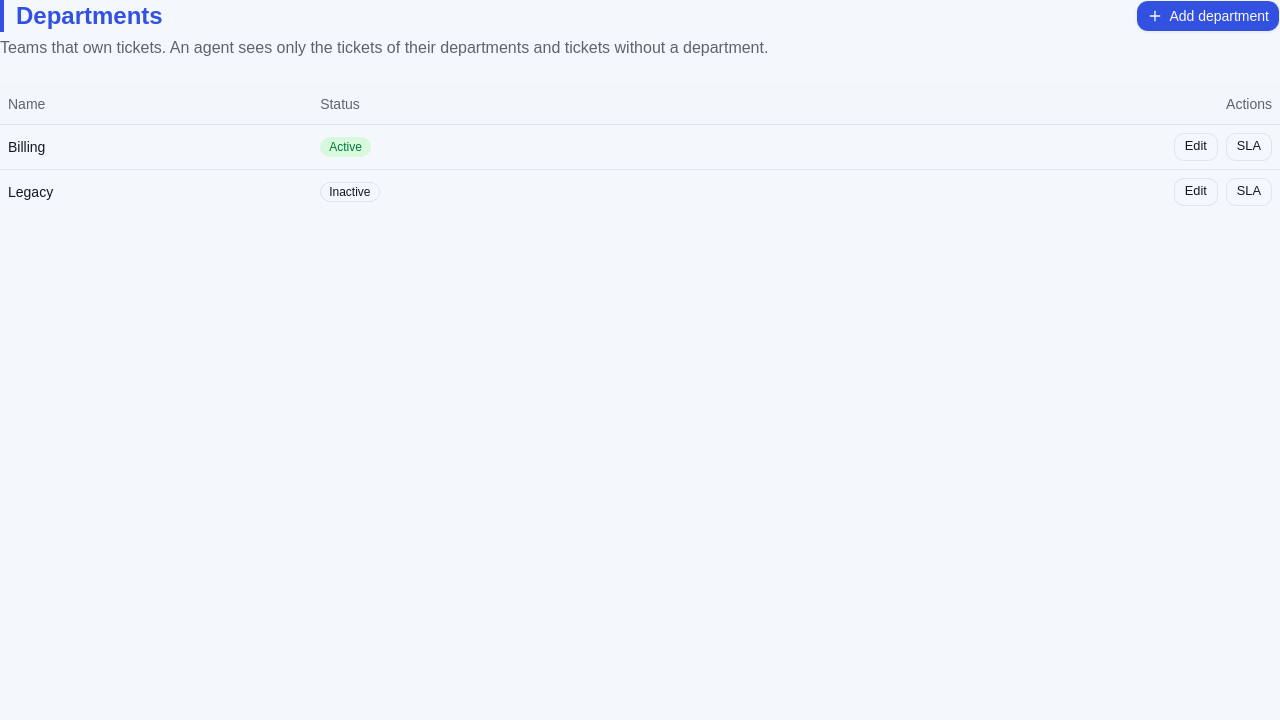
Scenario: DepartmentsPage › adds a department and reloads the list
Expected: the row "Billing Active Edit SLA" is shown, [0,124,1279,169]
Click the button "Add department". click: x=1208, y=16
box: [1136,0,1279,32]
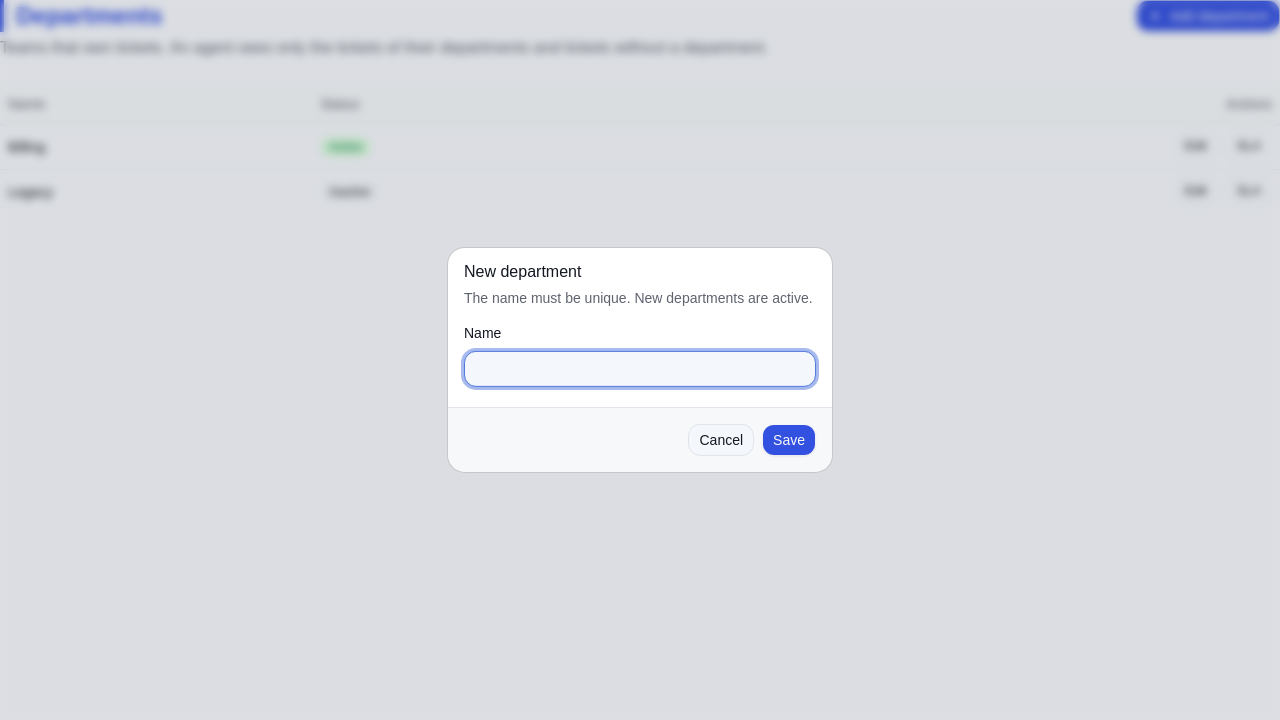
Type "  Support " into the field labelled "Name". click: x=640, y=369
box: [464,351,816,387]
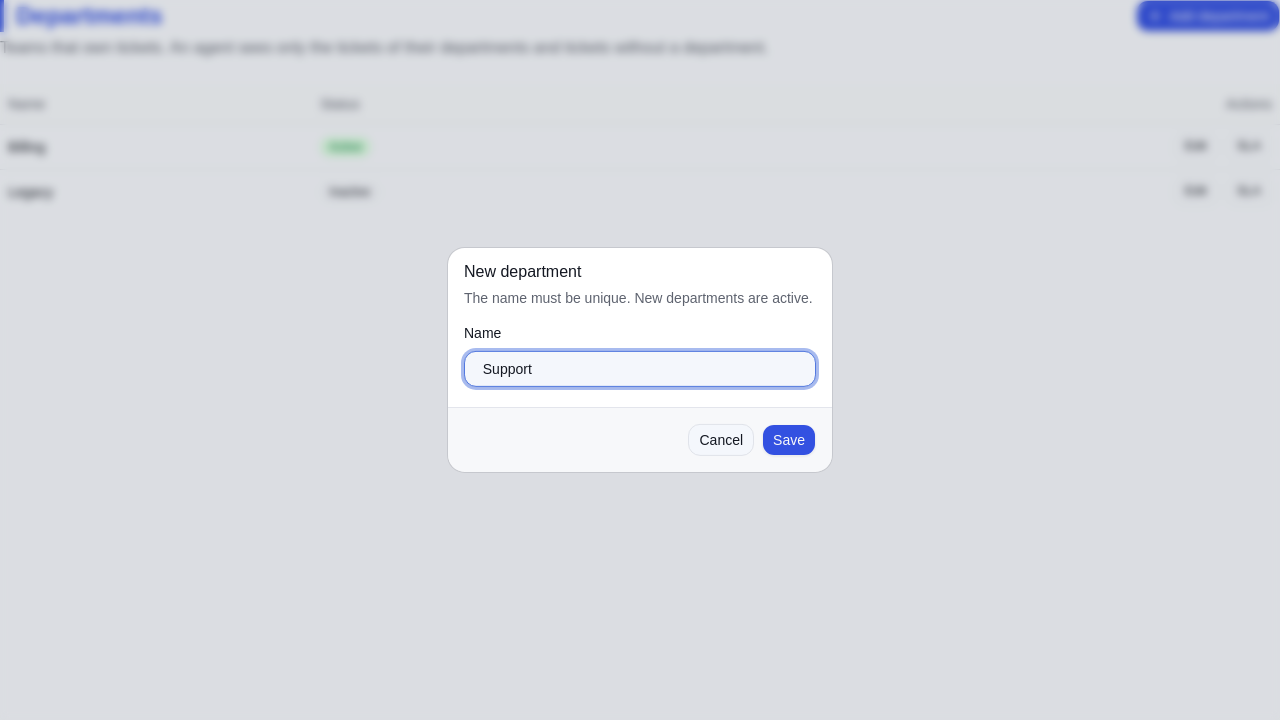
Click the button "Save". click: x=789, y=440
box: [762,424,816,456]
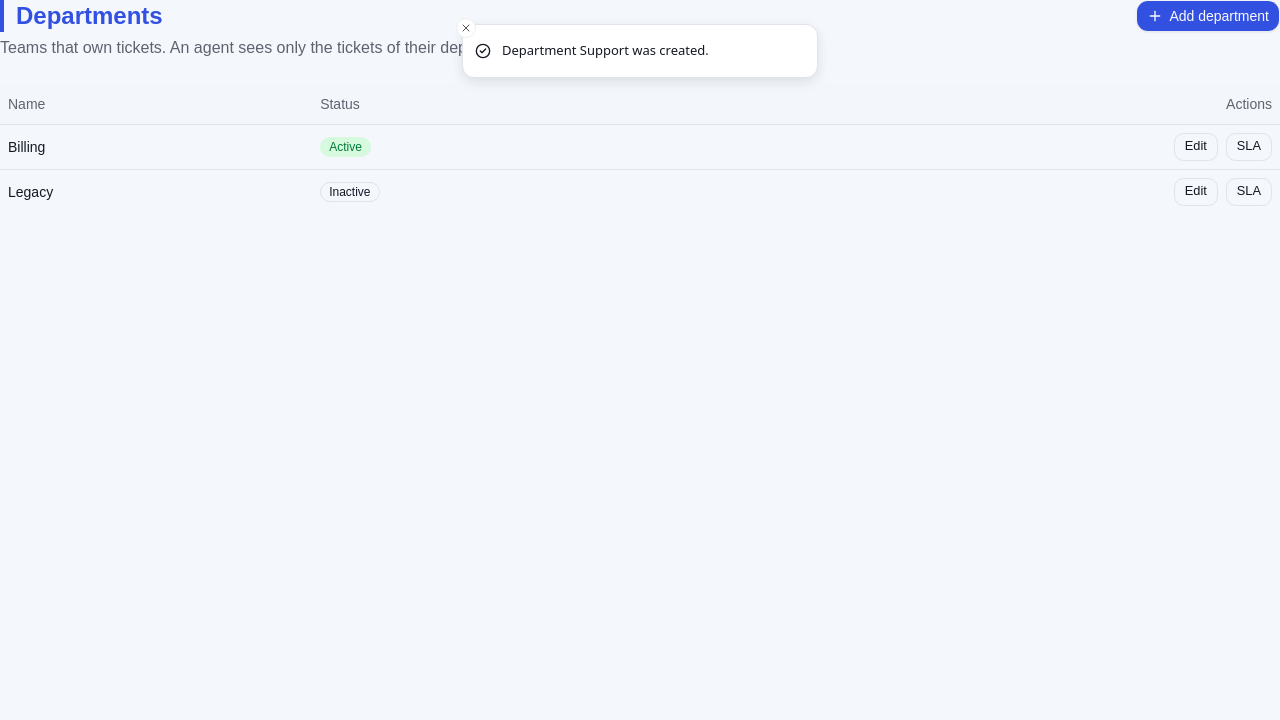
Now the dialog is gone
Now the text "Department Support was created." is shown, box [502,41,709,60]
